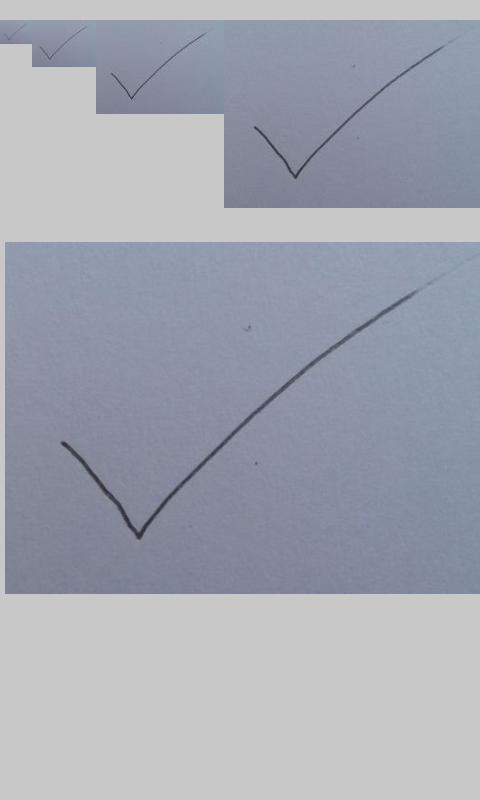check_box: (61, 303, 380, 539), (253, 78, 397, 179), (110, 42, 191, 100), (40, 30, 82, 60), (4, 26, 23, 40)
